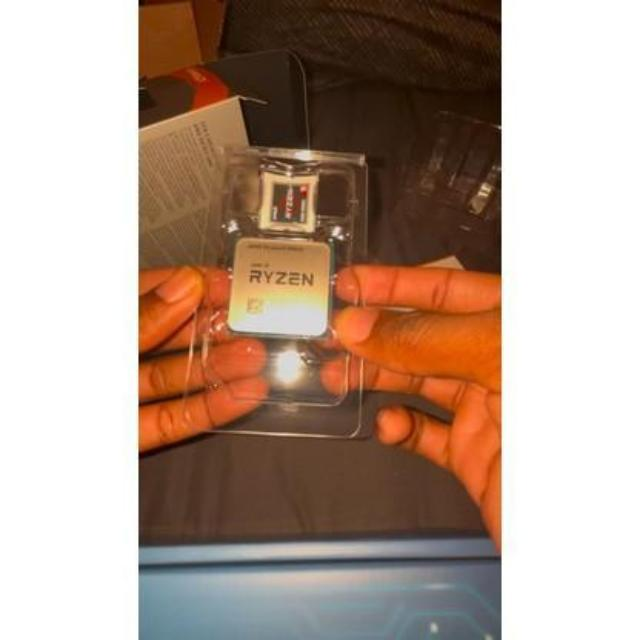CPU: (226, 235, 331, 337)
